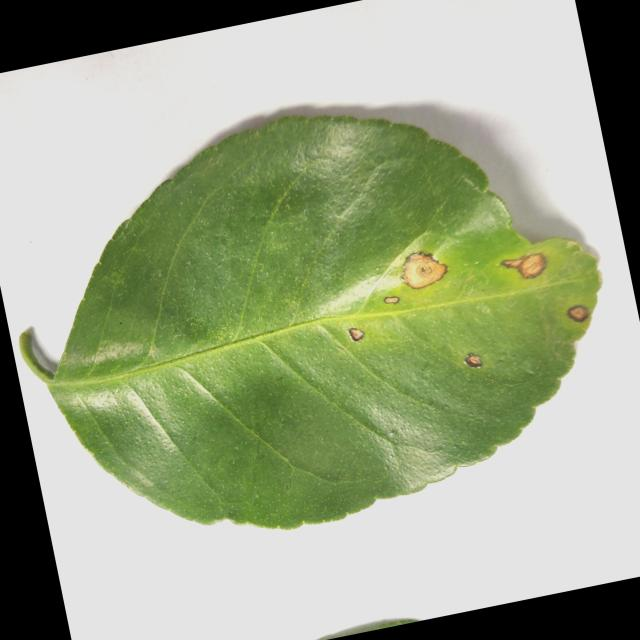antracnose: (22, 116, 601, 528), (403, 253, 447, 288), (502, 253, 546, 278), (567, 305, 589, 322), (465, 353, 482, 368), (348, 328, 364, 341), (384, 297, 399, 304)
